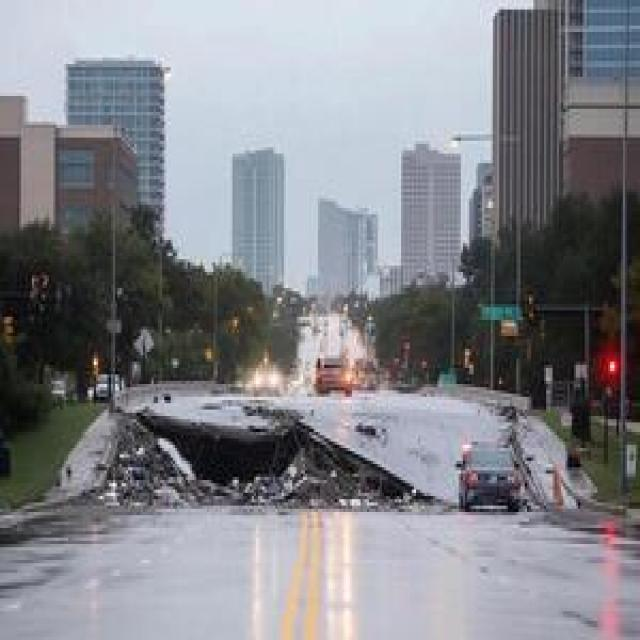road collapse: (34, 256, 484, 640)
